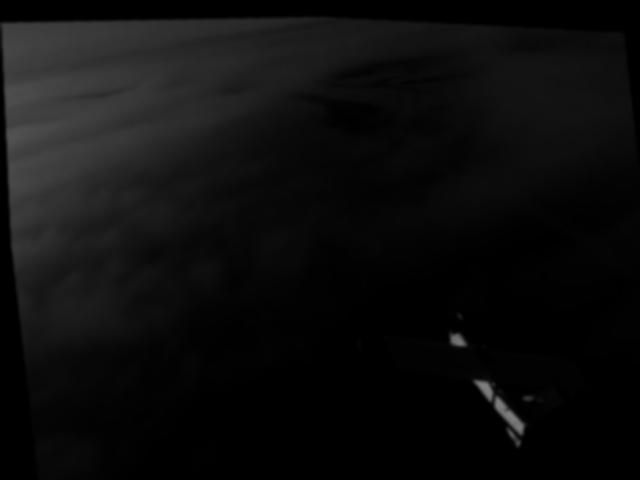hedef: (333, 282, 630, 464)
